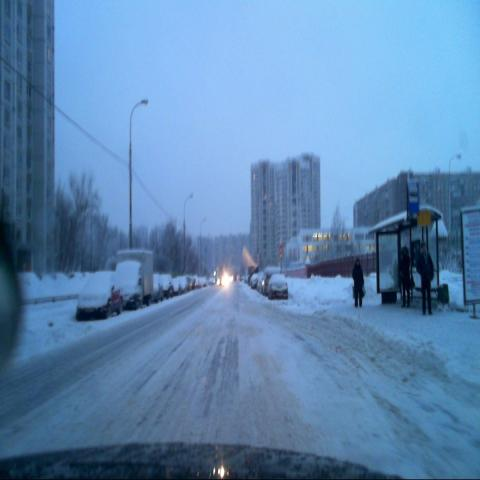5_16: (407, 179, 419, 214)
